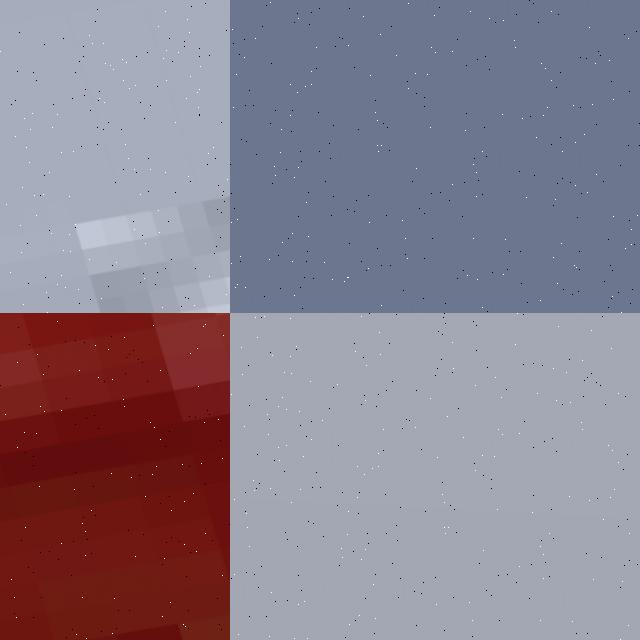drone: (0, 313, 230, 640), (0, 0, 230, 313)
